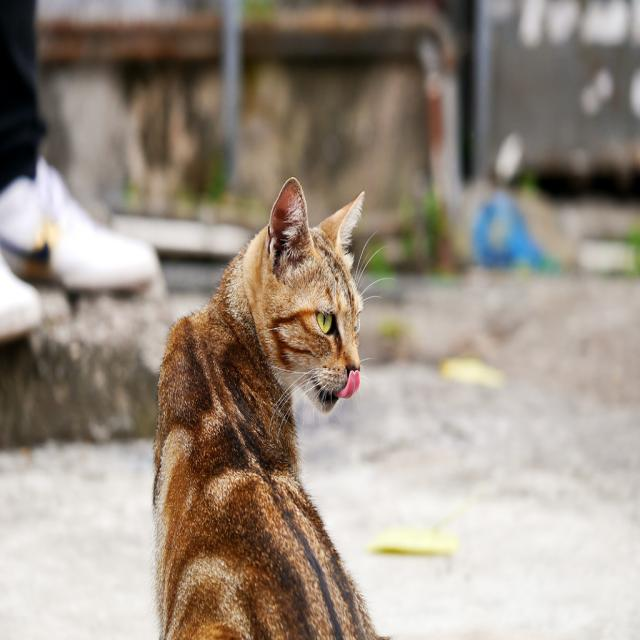Cat: (152, 169, 387, 638)
